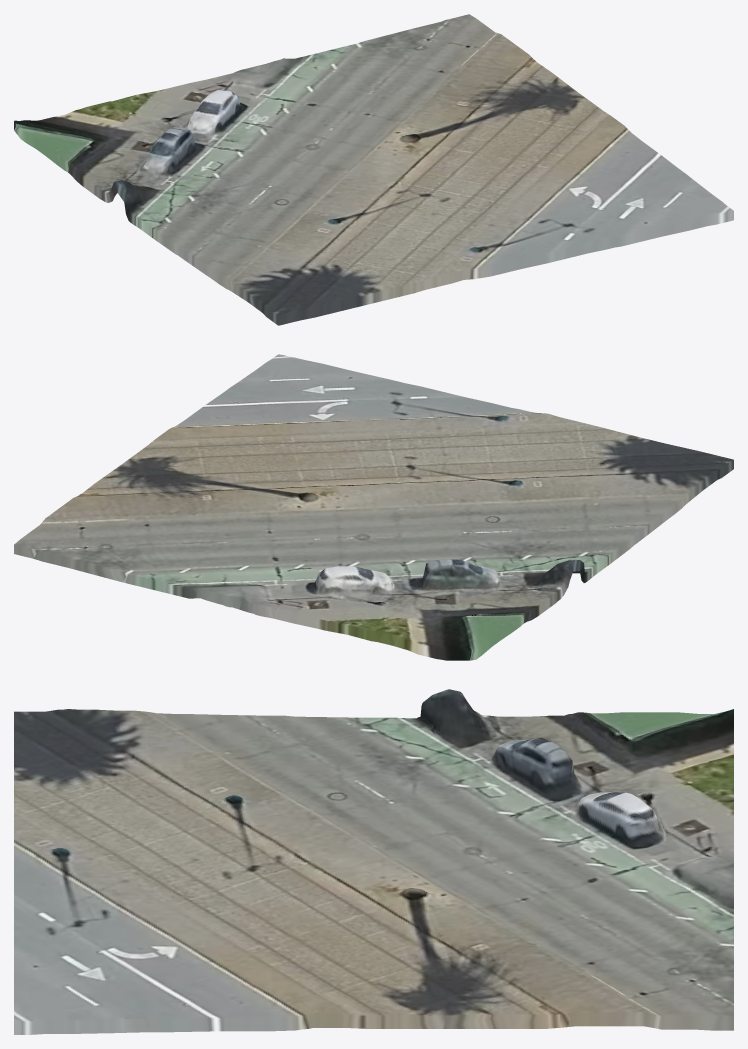
File: z20-167780-405209-h0-yup-uvflip-v3-world.glb
3 renders of one model, top to bottom at view 1: azimuth 30°, elevation 25°; view 2: azimuth 150°, elevation 25°; view 3: azimuth 270°, elevation 25°, orthographic. The views are drawn at different scales.
Size of the model in its own units: 30.16 by 2.2 by 30.32.
Materials: 1 (1 with a texture image).
